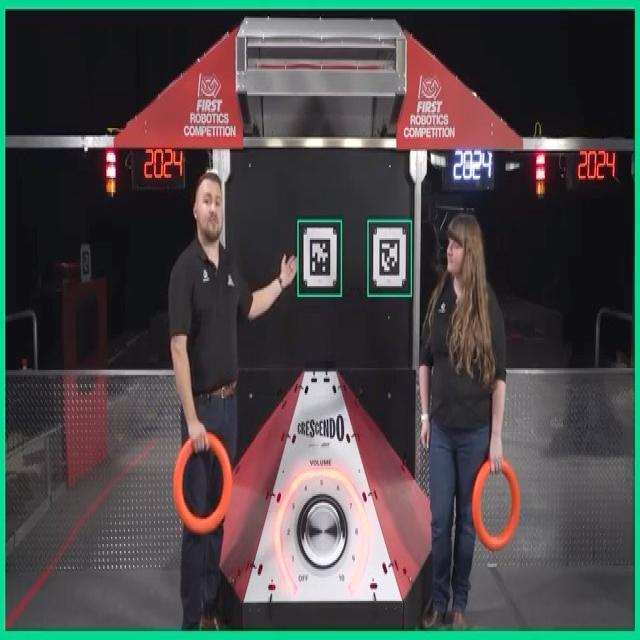note: (172, 432, 234, 538), (469, 456, 521, 551)
